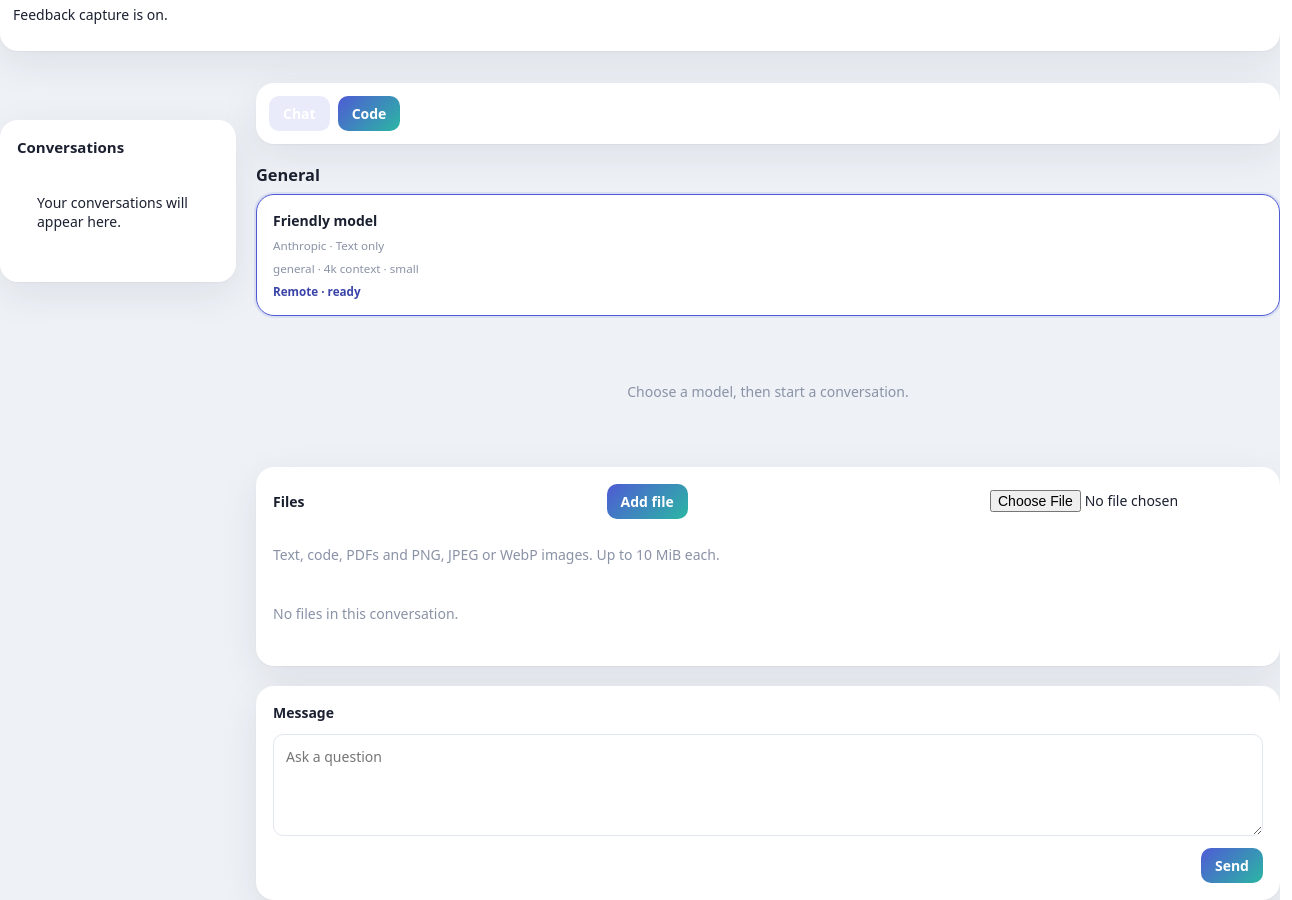
Test case: context refusal preserves the draft and offers concrete remedies
(page scrolled)
Expected: the text "Friendly model" is shown, [273, 211, 377, 230]
Type "Keep this long prompt" into the text box labelled "Message" at [768, 785], box [273, 734, 1263, 836]
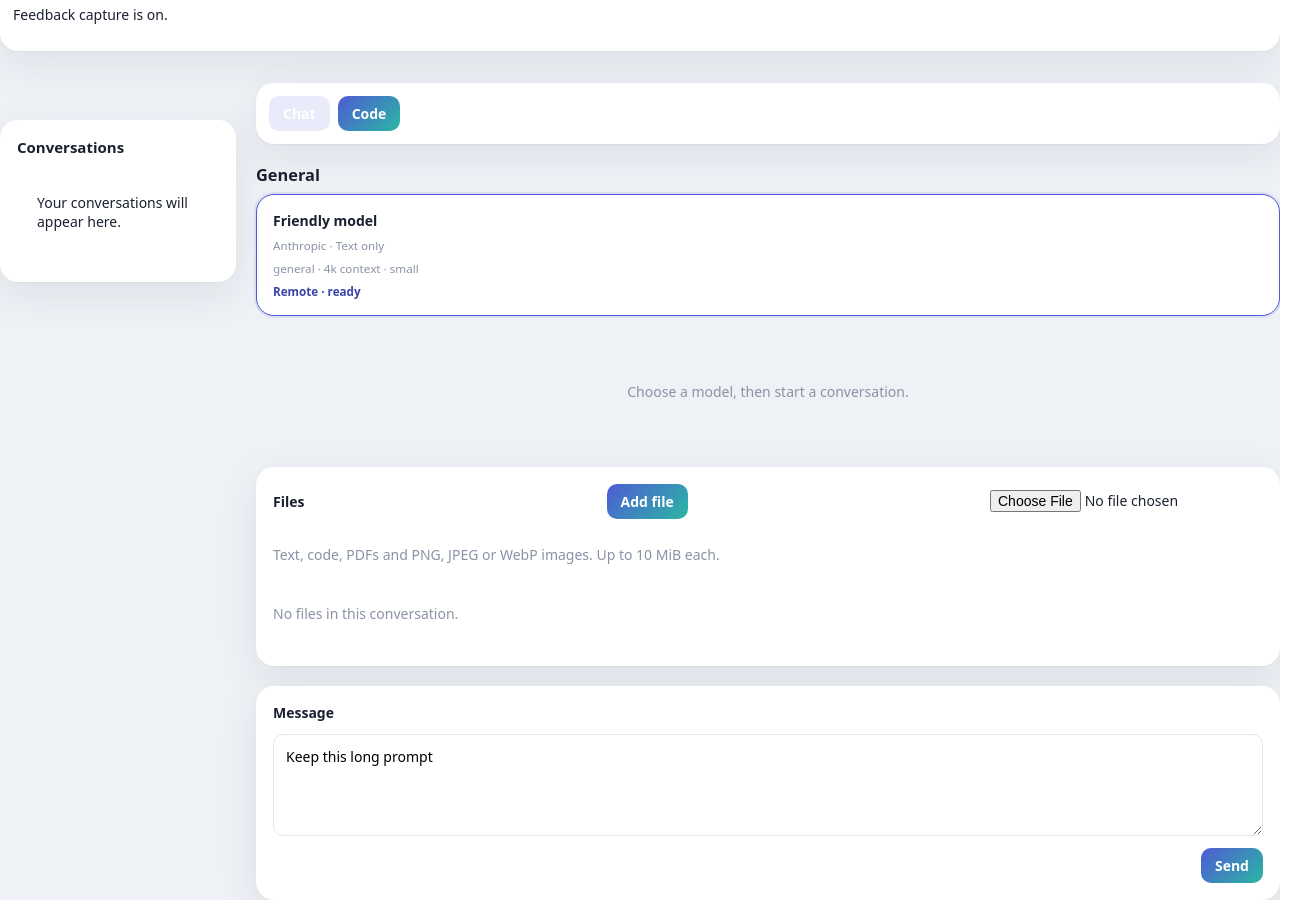
Click the button "Send" at [1232, 865], box [1201, 848, 1263, 883]
(page scrolled)
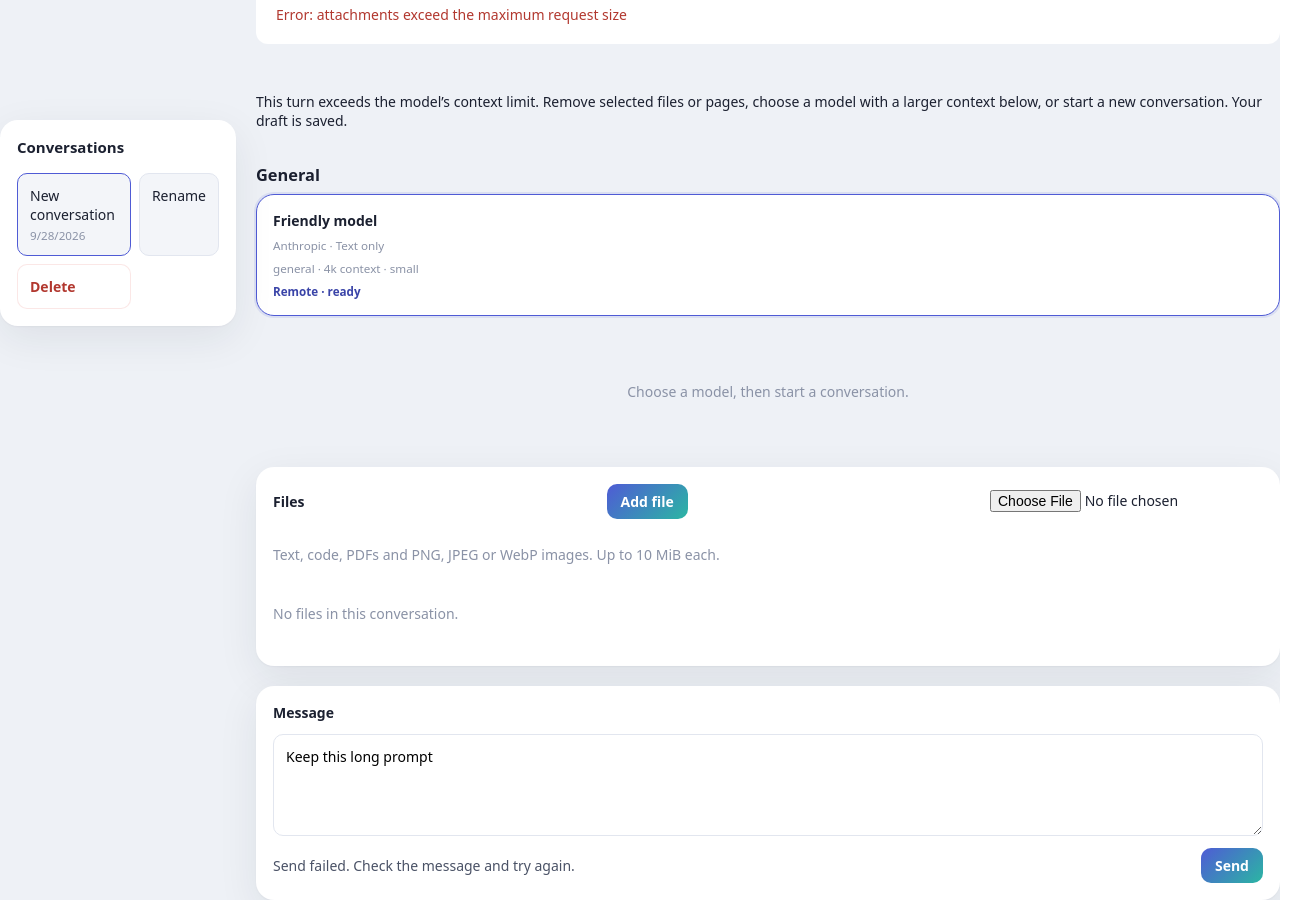
Now the text "start a new conversation" is shown, box [256, 92, 1262, 130]
